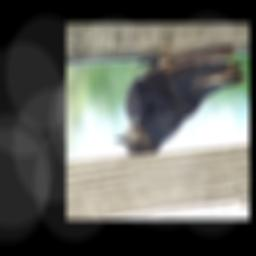Swallow: (114, 45, 246, 156)
